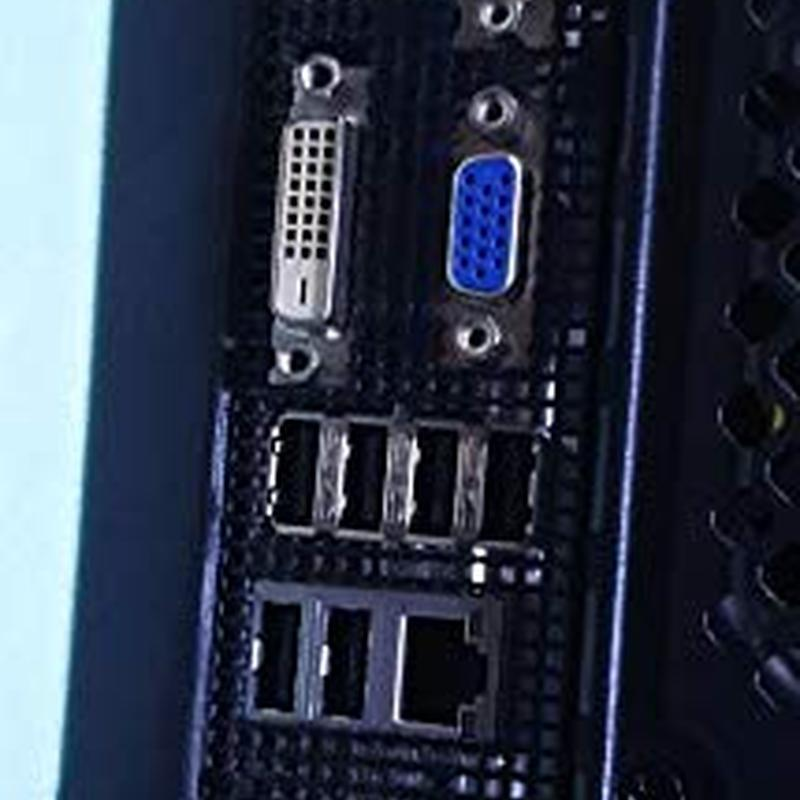DVI: (252, 38, 365, 402)
ETHERNET: (384, 601, 496, 751)
USB: (468, 410, 560, 592), (399, 405, 470, 570), (305, 591, 381, 740), (247, 400, 325, 543), (328, 404, 395, 563), (242, 580, 311, 724)
VGA: (419, 75, 547, 397)
